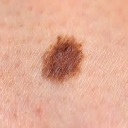Carcinoma: (43, 35, 84, 82)
